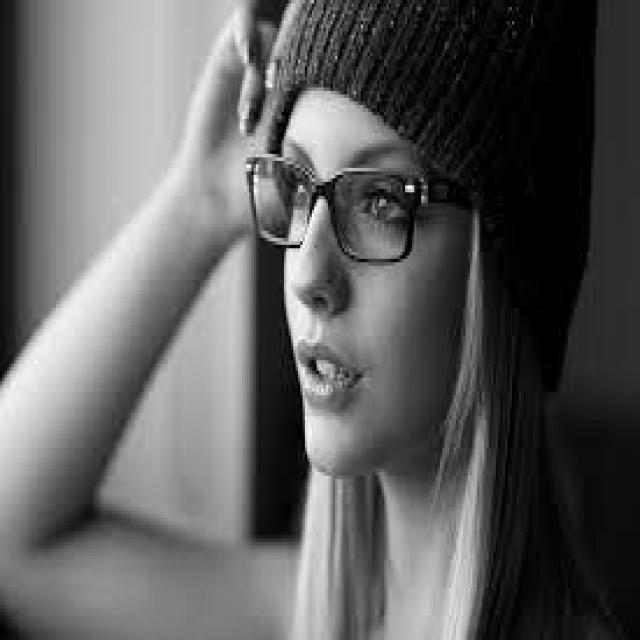person: (79, 0, 617, 637)
